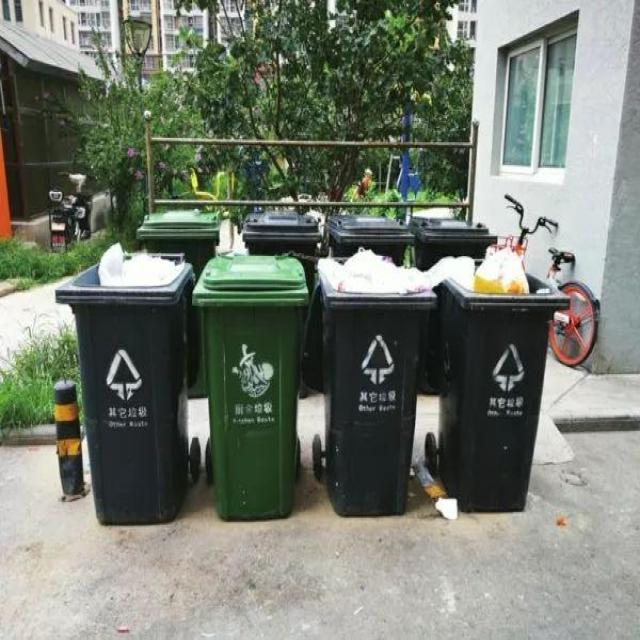garbage: (412, 455, 458, 521)
garbage_bin: (192, 253, 306, 519)
overflow: (54, 239, 190, 525), (438, 243, 570, 512), (316, 244, 435, 510)
